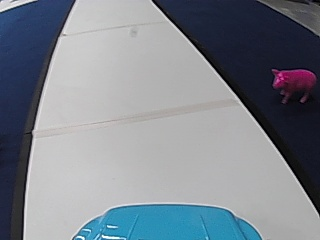pig: (268, 64, 316, 103)
